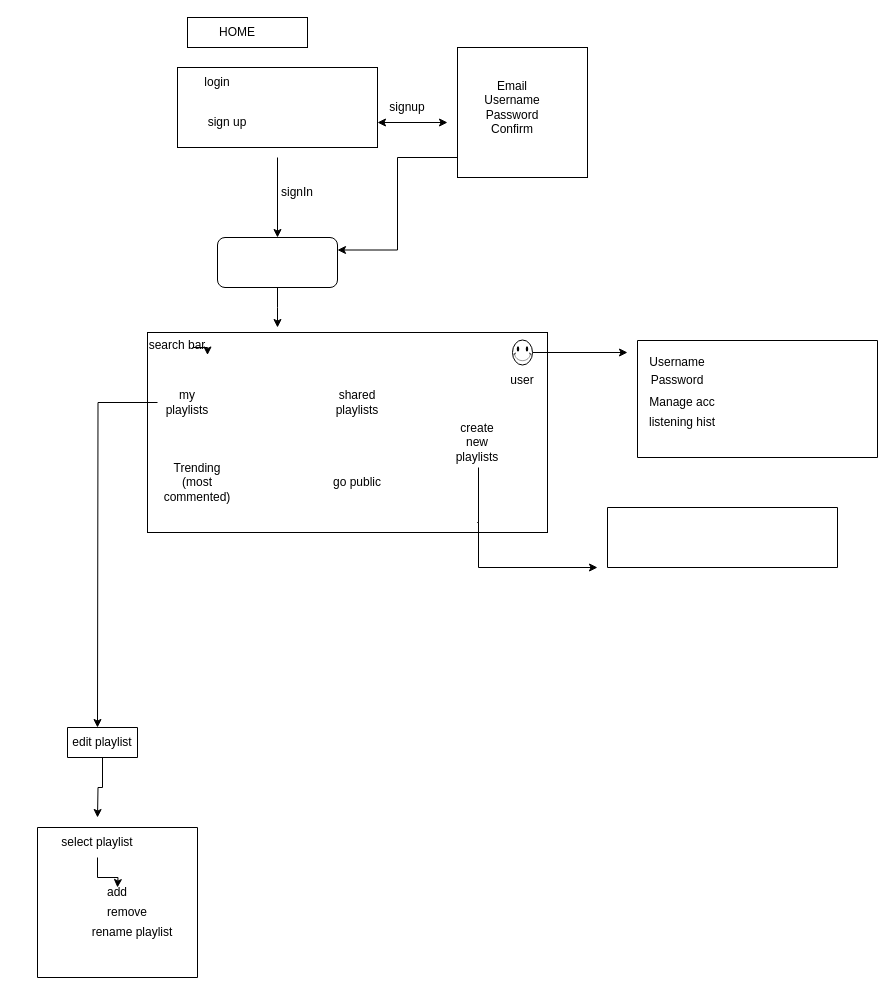
Image size: 895x995. Some labels were removed from this diagram. The shapes that lost their labels are listed below. From the top down, each one's centre as x and y in pixels, then its label:
At (277,262): "main dashboard".
At (722,537): "* search and select song * name playlist and save".
